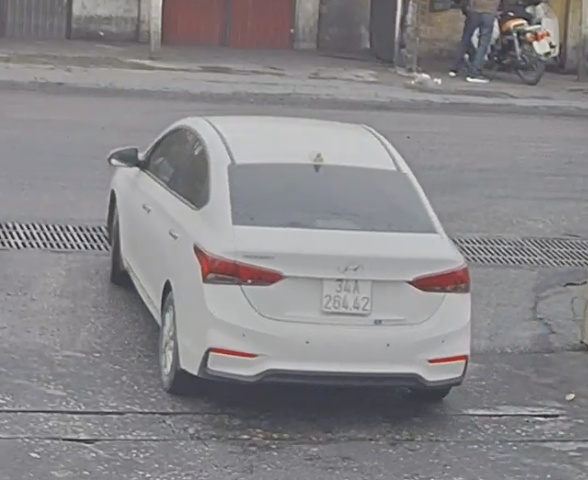vehicle plate: (319, 273, 374, 312)
